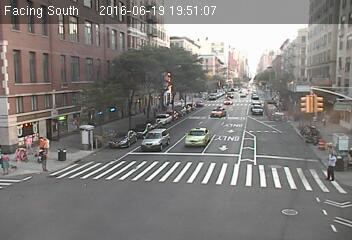neg: (294, 126, 319, 159), (109, 142, 133, 173), (111, 120, 129, 144), (93, 131, 108, 151), (136, 120, 148, 136)
pos: (318, 149, 344, 183)
